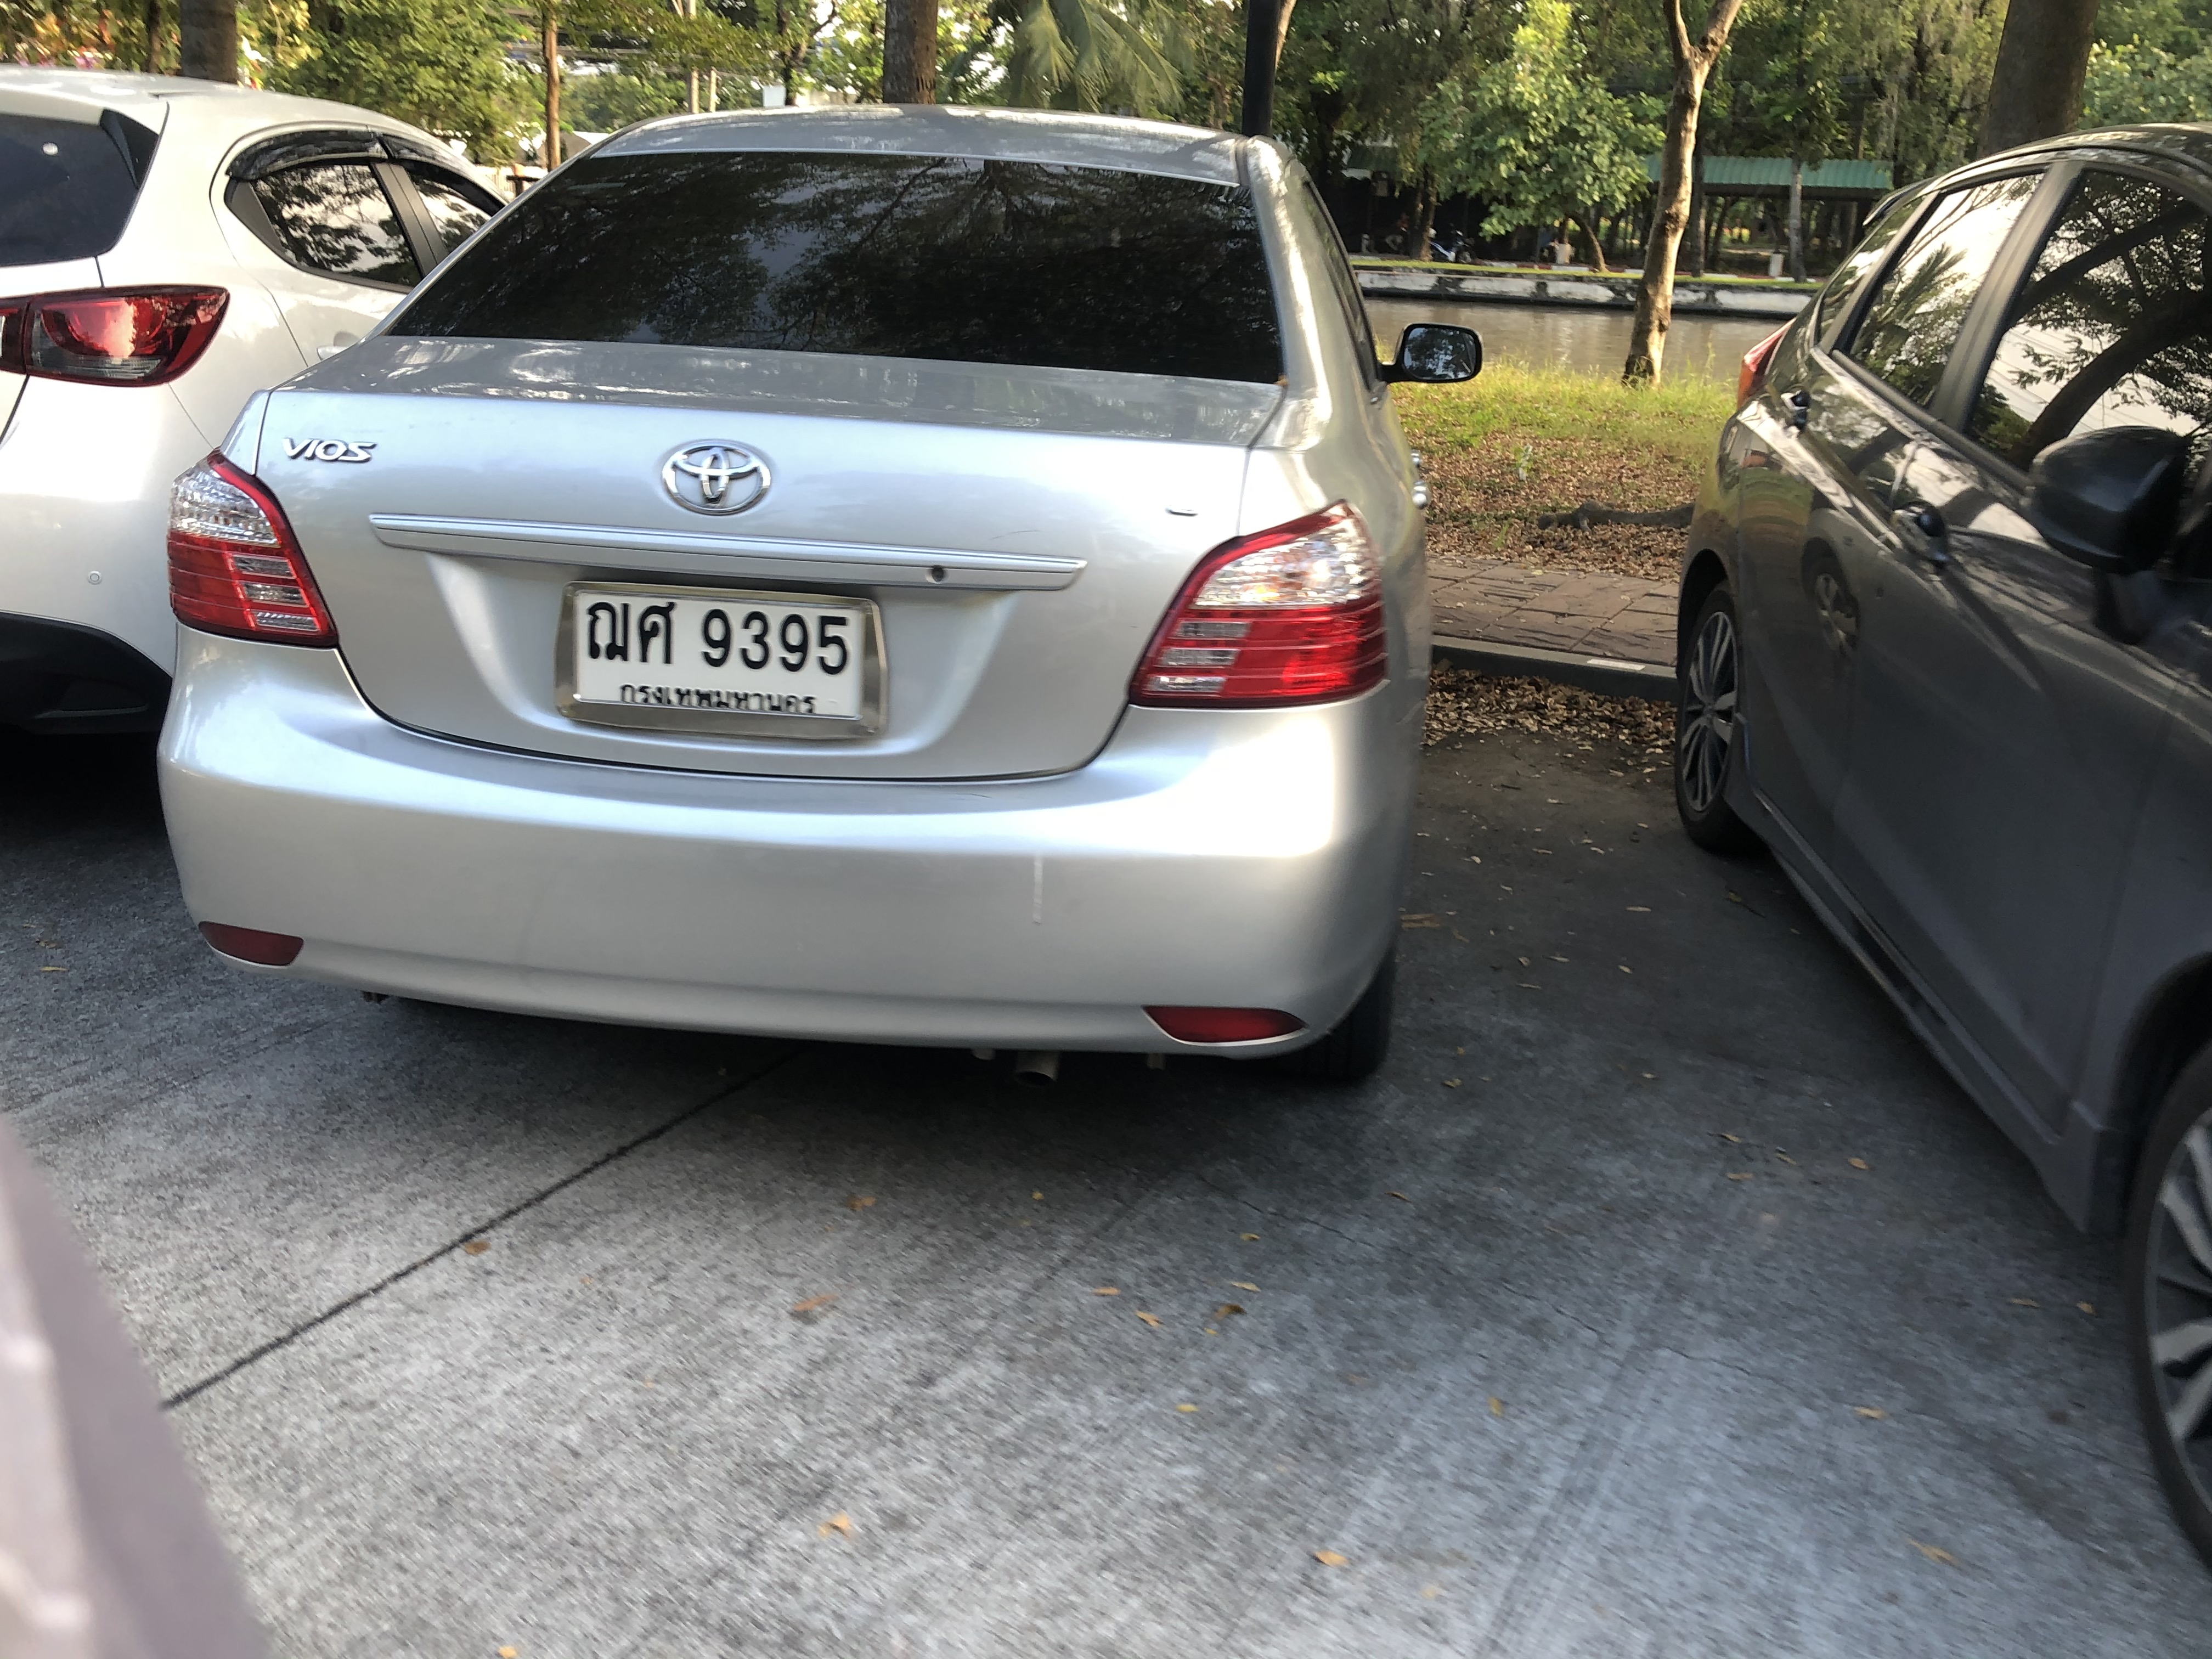in: (580, 591, 869, 721)
out: (552, 575, 902, 746)
